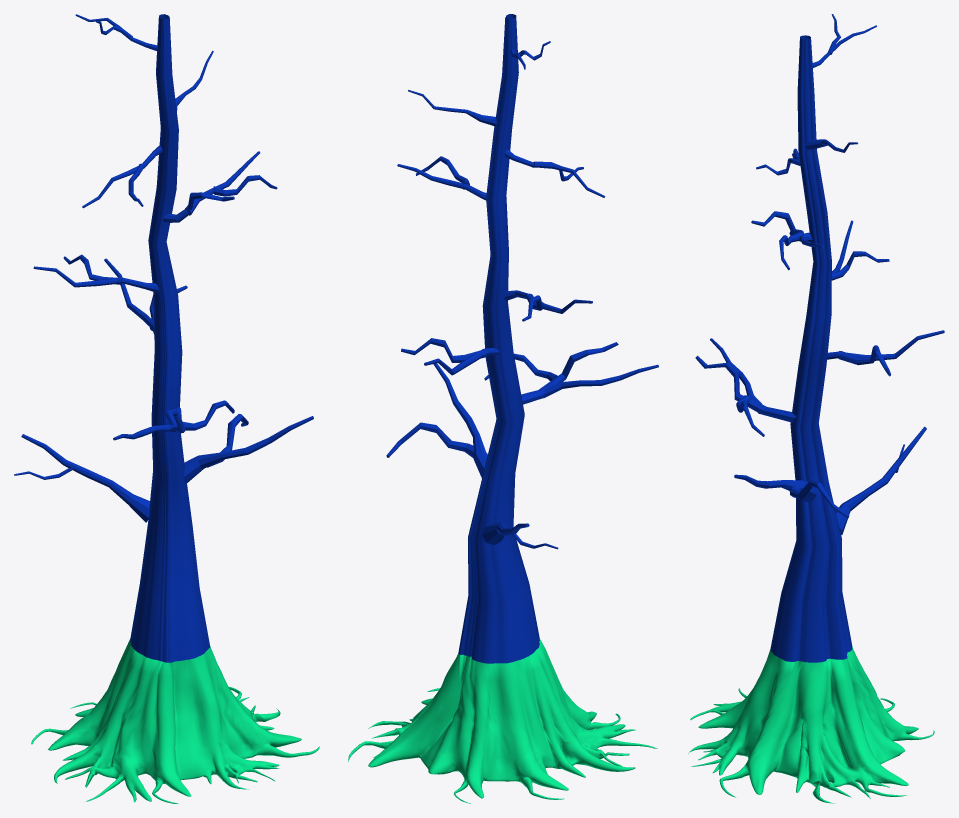
Rendered from SM_E_CypressTree_Large_01.fbx.
3 renders of one model, left to right at view 1: azimuth 30°, elevation 25°; view 2: azimuth 150°, elevation 25°; view 3: azimuth 270°, elevation 25°, orthographic. The views are drawn at different scales.
Parts seen in each view (by area): view 1: SM_E_CypressTree_Large_01; view 2: SM_E_CypressTree_Large_01; view 3: SM_E_CypressTree_Large_01.
Part boxes in pixels (box(x1,y1,x2,y2)): SM_E_CypressTree_Large_01: box(14, 14, 319, 803); SM_E_CypressTree_Large_01: box(348, 14, 658, 803); SM_E_CypressTree_Large_01: box(688, 14, 944, 803).
Bounding box in the file's own units: 539 × 1547 × 510.
